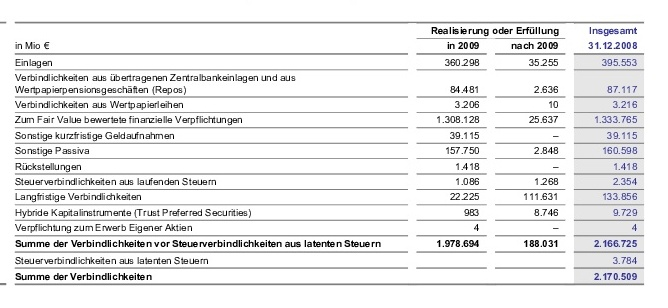table: (0, 0, 668, 308)
